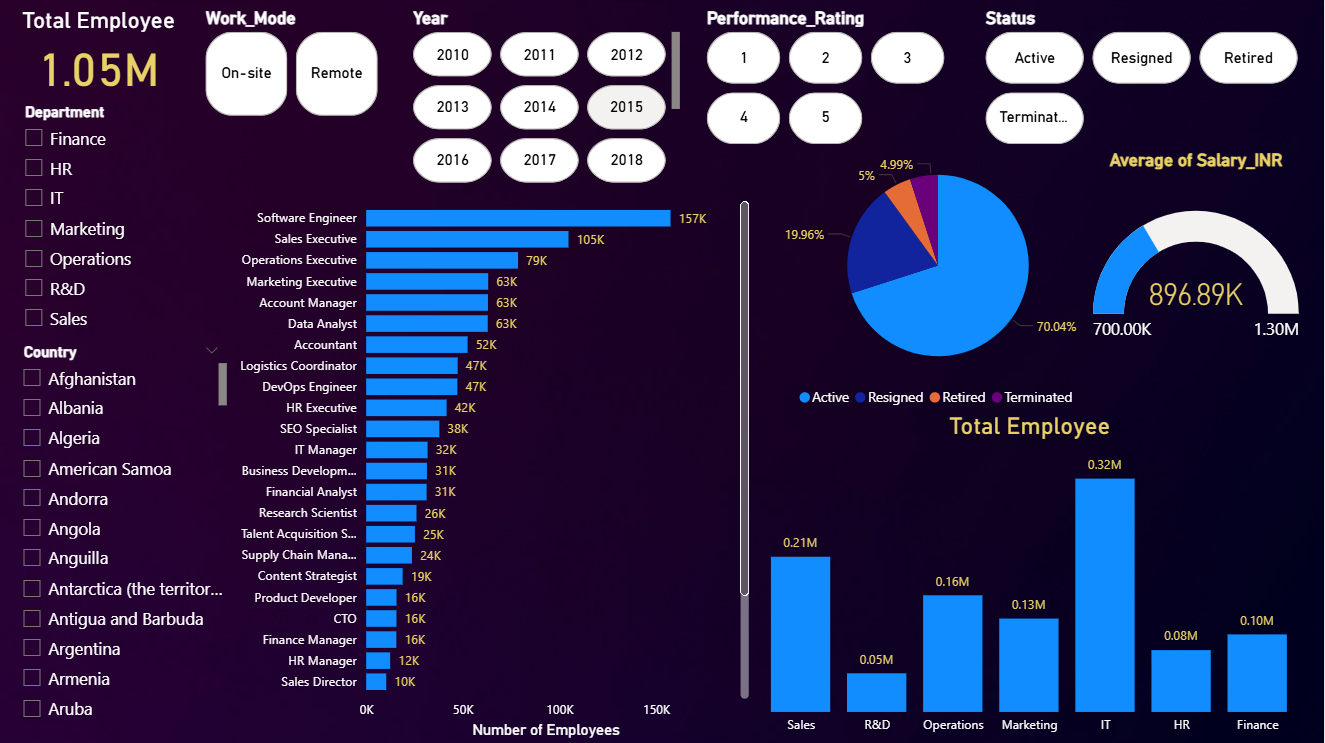

This screenshot's page, from the dashboard's own definition file:
{"tool":"powerbi","page":{"name":"Page 1","canvas":[1280,720],"ordinal":0},"visuals":[{"type":"card","title":"Total Employee","fields":{"Values":["Count(HR_Data_MNC_Data Science Lovers.Employee_ID)"]},"box":[12.1,9.7,170.1,88.1],"z":0},{"type":"slicer","fields":{"Values":["HR_Data_MNC_Data Science Lovers.Department"]},"box":[13.3,97.7,170.1,241.3],"z":1000},{"type":"pieChart","fields":{"Y":["CountNonNull(HR_Data_MNC_Data Science Lovers.Status)","select"],"Category":["HR_Data_MNC_Data Science Lovers.Status"]},"box":[626.1,147.2,562.2,253.4],"z":2000},{"type":"slicer","fields":{"Values":["HR_Data_MNC_Data Science Lovers.Country"]},"box":[12.1,329.4,213.5,376.4],"z":3000},{"type":"advancedSlicerVisual","fields":{"Values":["HR_Data_MNC_Data Science Lovers.Performance_Rating"]},"box":[679.2,9.7,241.3,137.5],"z":4000},{"type":"advancedSlicerVisual","fields":{"Values":["HR_Data_MNC_Data Science Lovers.Work_Mode"]},"box":[195.4,9.7,263,111],"z":5000},{"type":"advancedSlicerVisual","fields":{"Values":["HR_Data_MNC_Data Science Lovers.Status"]},"box":[948.3,9.7,312.5,137.5],"z":6000},{"type":"clusteredColumnChart","title":"Total Employee","fields":{"Category":["HR_Data_MNC_Data Science Lovers.Department"],"Y":["CountNonNull(HR_Data_MNC_Data Science Lovers.Employee_ID)"]},"box":[711.8,400.5,568.2,319.7],"z":7000},{"type":"gauge","fields":{"Y":["Avg(HR_Data_MNC_Data Science Lovers.Salary_INR)"]},"box":[1052,147.2,208.7,230.4],"z":8000},{"type":"advancedSlicerVisual","fields":{"Values":["HR_Data_MNC_Data Science Lovers.Hire_Date.Variation.Date Hierarchy.Year"]},"box":[395.7,9.7,267.8,174.9],"z":9000},{"type":"clusteredBarChart","fields":{"Category":["HR_Data_MNC_Data Science Lovers.Job_Title"],"Y":["CountNonNull(HR_Data_MNC_Data Science Lovers.Employee_ID)"]},"box":[213.5,184.6,516.4,535.7],"z":10000}]}

Visuals, with their boxes in screenshot pixels (x1, y1, x2, y2), scaled from the page's 1280x720 canvas onto the 1325x743 screenshot:
"Total Employee" card: 13,10,189,101
slicer - HR_Data_MNC_Data Science Lovers.Department: 14,101,190,350
pieChart - CountNonNull(HR_Data_MNC_Data Science Lovers.Status) x select: 648,152,1230,413
slicer - HR_Data_MNC_Data Science Lovers.Country: 13,340,234,728
advancedSlicerVisual - HR_Data_MNC_Data Science Lovers.Performance_Rating: 703,10,953,152
advancedSlicerVisual - HR_Data_MNC_Data Science Lovers.Work_Mode: 202,10,475,125
advancedSlicerVisual - HR_Data_MNC_Data Science Lovers.Status: 982,10,1305,152
"Total Employee" clusteredColumnChart: 737,413,1324,742
gauge - Avg(HR_Data_MNC_Data Science Lovers.Salary_INR): 1089,152,1305,390
advancedSlicerVisual - HR_Data_MNC_Data Science Lovers.Hire_Date.Variation.Date Hierarchy.Year: 410,10,687,190
clusteredBarChart - HR_Data_MNC_Data Science Lovers.Job_Title x CountNonNull(HR_Data_MNC_Data Science Lovers.Employee_ID): 221,190,756,742
